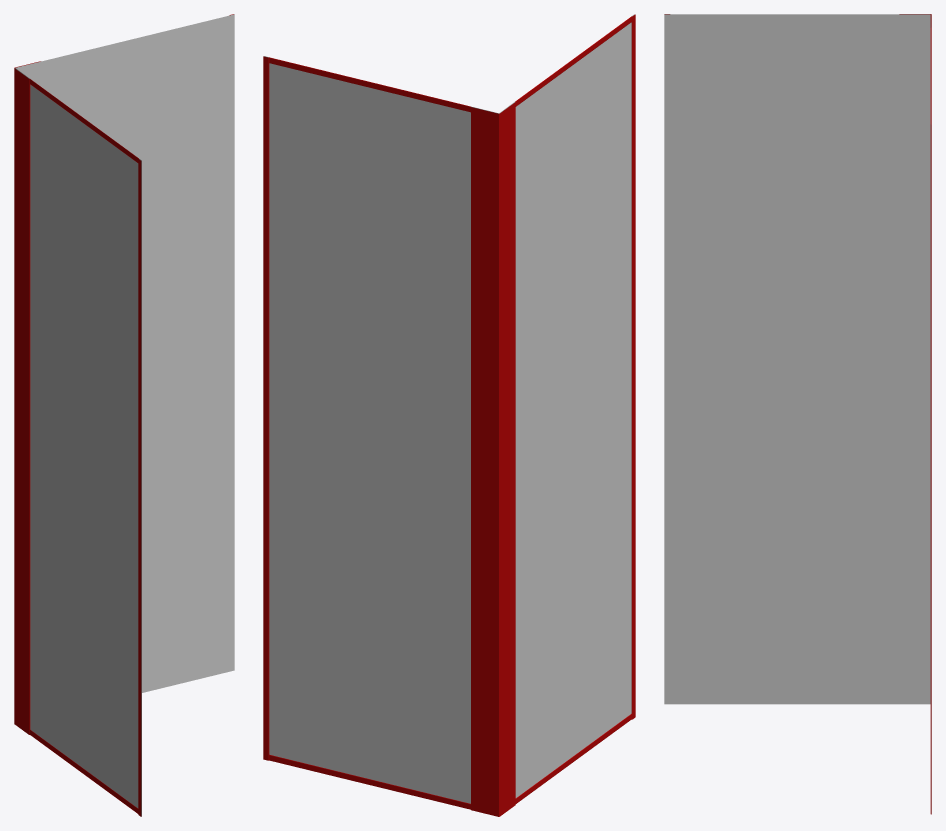
File: Wall02CornerExt.fbx
The picture shows the model from 3 angles, left to right: view 1: azimuth 30°, elevation 25°; view 2: azimuth 150°, elevation 25°; view 3: azimuth 270°, elevation 25°; orthographic projection. The views are drawn at different scales.
Visible parts, largest first — view 1: Wall02CornerExt; view 2: Wall02CornerExt; view 3: Wall02CornerExt.
Part boxes in pixels (x1,y1,x2,y2): Wall02CornerExt: (14, 14, 234, 816); Wall02CornerExt: (263, 14, 635, 816); Wall02CornerExt: (664, 14, 931, 814).
Bounding box in the file's own units: 105 × 300 × 105.
